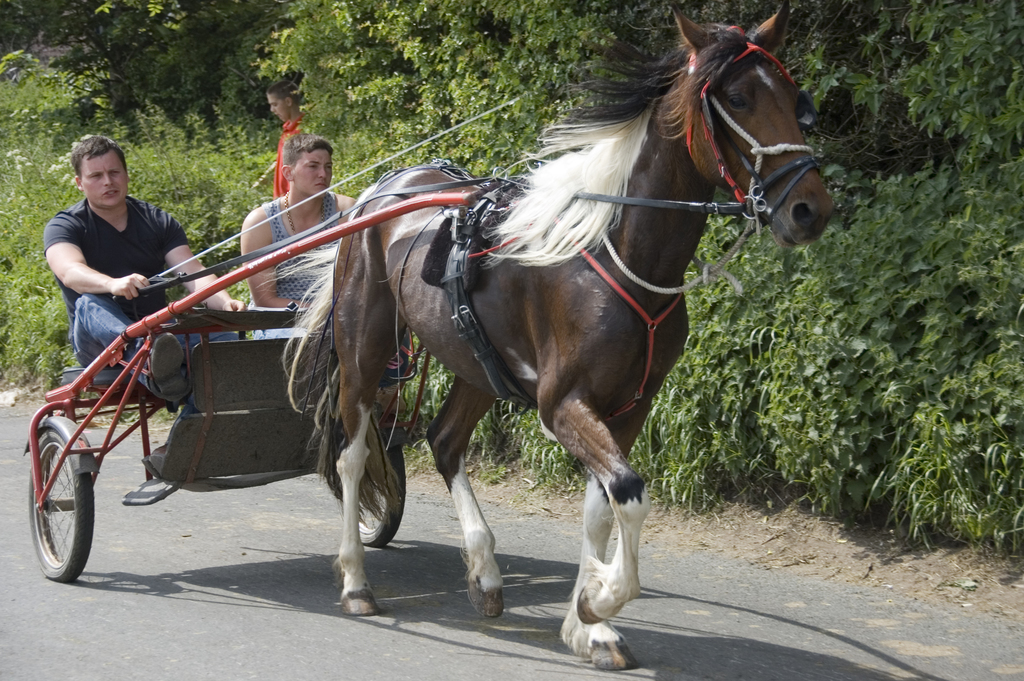Person: (43, 134, 248, 479), (267, 81, 306, 201)
